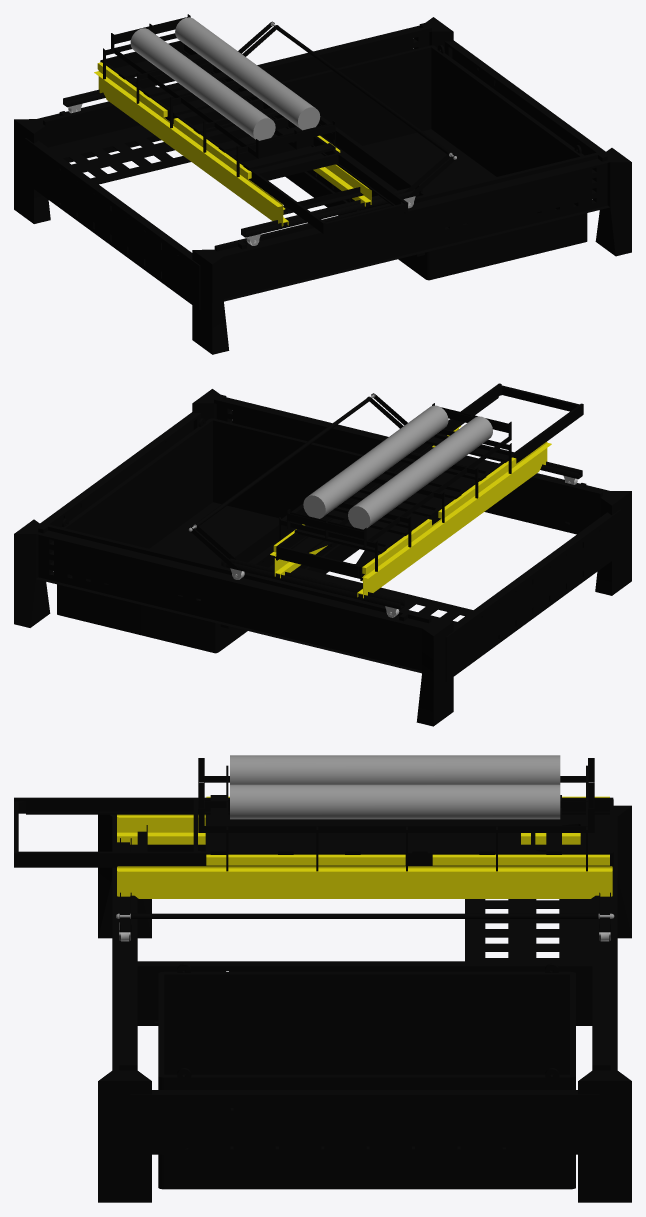
File: Frame.fbx
The picture shows the model from 3 angles, top to bottom: view 1: azimuth 30°, elevation 25°; view 2: azimuth 150°, elevation 25°; view 3: azimuth 270°, elevation 25°; orthographic projection. The views are drawn at different scales.
Parts seen in each view (by area): view 1: Frame, Bath, SideWall, Directional, Al02, Al01, Mechanism, Part, Part_3, Part_2, Rele, Part_1 (+8 smaller); view 2: Frame, Bath, SideWall, Directional, Mechanism, Al02, Al01, Slider, Part_2, Rele, Trolley, Part (+7 smaller); view 3: Bath, SideWall, Frame, Directional, Al02, Al01, Mechanism, Slider, MiddleWall, Part, Part_1, Frame.001 (+5 smaller).
Part boxes in pixels (x1,y1,x2,y2): Frame: (14, 17, 631, 354); Bath: (280, 44, 587, 280); SideWall: (25, 40, 605, 309); Directional: (94, 70, 371, 226); Al02: (175, 17, 320, 130); Al01: (130, 28, 275, 140); Mechanism: (100, 41, 407, 233); Part: (48, 125, 190, 184); Part_3: (129, 63, 338, 180); Part_2: (118, 53, 335, 170); Rele: (63, 89, 419, 237); Part_1: (97, 62, 340, 178); Frame: (14, 389, 631, 726); Bath: (57, 418, 363, 653); SideWall: (40, 412, 620, 681); Directional: (270, 426, 551, 598); Mechanism: (276, 383, 583, 577); Al02: (303, 405, 448, 518); Al01: (348, 416, 492, 529); Slider: (274, 447, 498, 579); Part_2: (294, 437, 508, 554); Rele: (226, 461, 582, 609); Trolley: (279, 429, 511, 571); Part: (258, 563, 473, 624); Bath: (158, 963, 575, 1189); SideWall: (130, 844, 599, 1154); Frame: (98, 805, 631, 1202); Directional: (117, 814, 612, 898); Al02: (230, 784, 560, 819); Al01: (230, 755, 560, 784); Mechanism: (14, 797, 613, 867); Slider: (205, 814, 609, 851); MiddleWall: (137, 961, 592, 1025); Part: (465, 844, 592, 961); Part_1: (206, 796, 609, 865); Frame.001: (198, 758, 594, 832).
Bounding box in the file's own units: 978 × 390 × 922.
